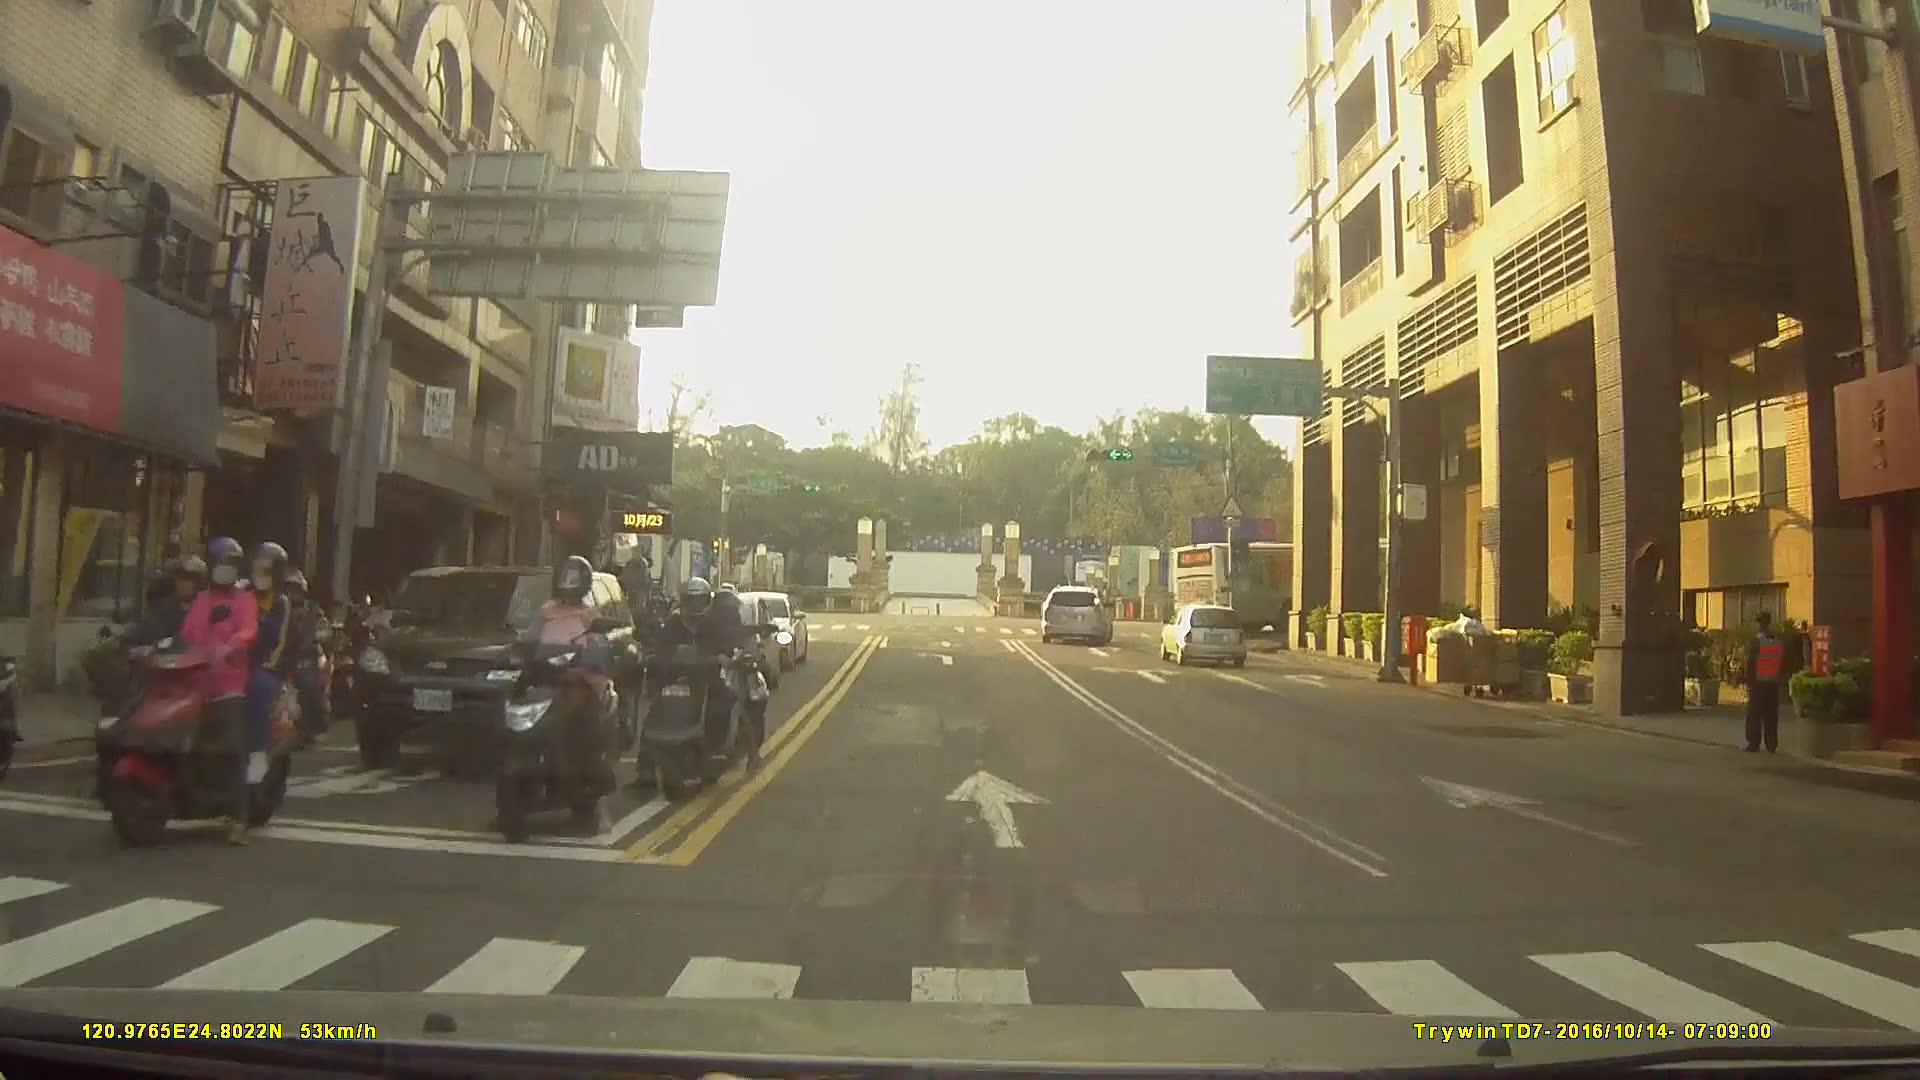pedestrian: (1734, 612, 1794, 763)
rider: (80, 530, 283, 846), (472, 550, 627, 842), (633, 578, 744, 804)
vehicle: (350, 564, 640, 763), (1171, 537, 1423, 630), (1157, 600, 1248, 664), (1039, 585, 1115, 643)
